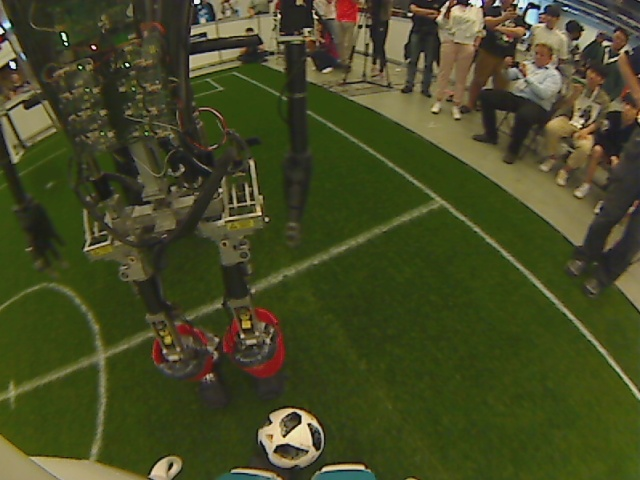ball: (254, 406, 326, 470)
